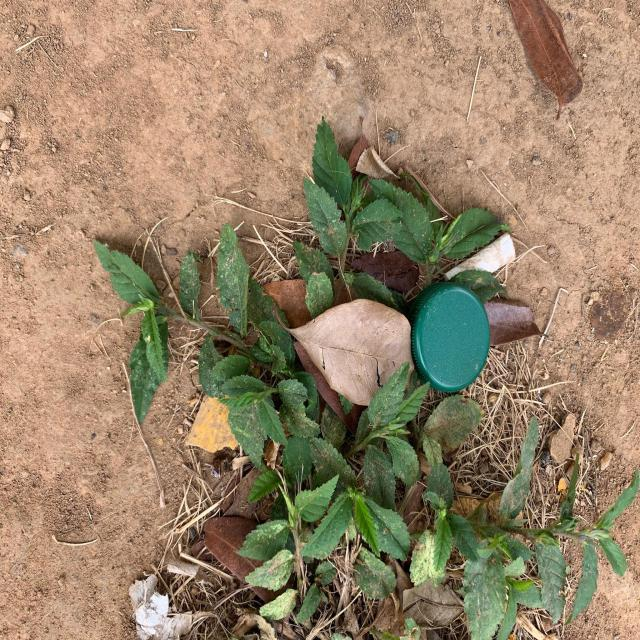litter: (414, 288, 488, 385)
